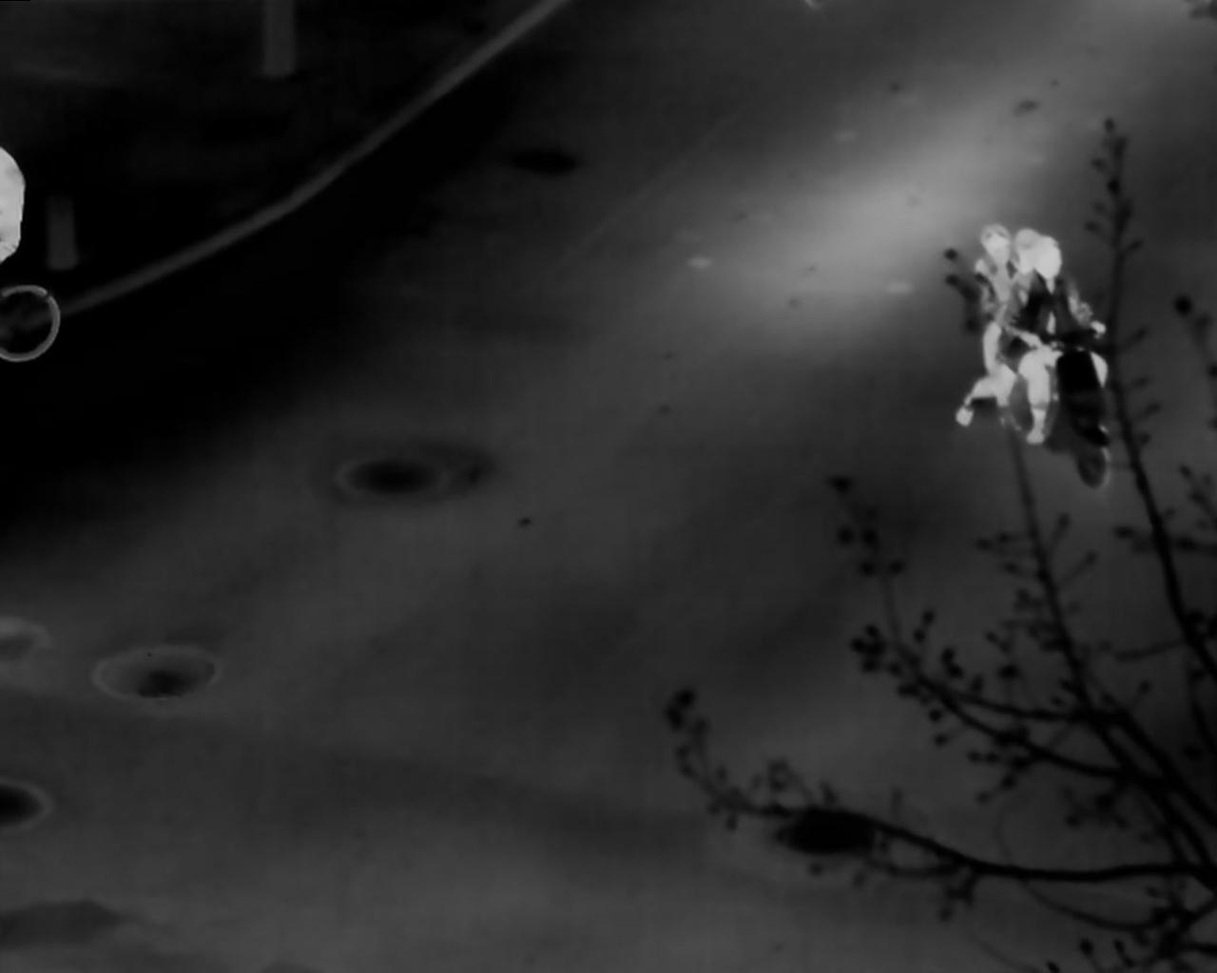person: (1003, 234, 1107, 446), (989, 221, 1054, 408), (962, 226, 1013, 422)
